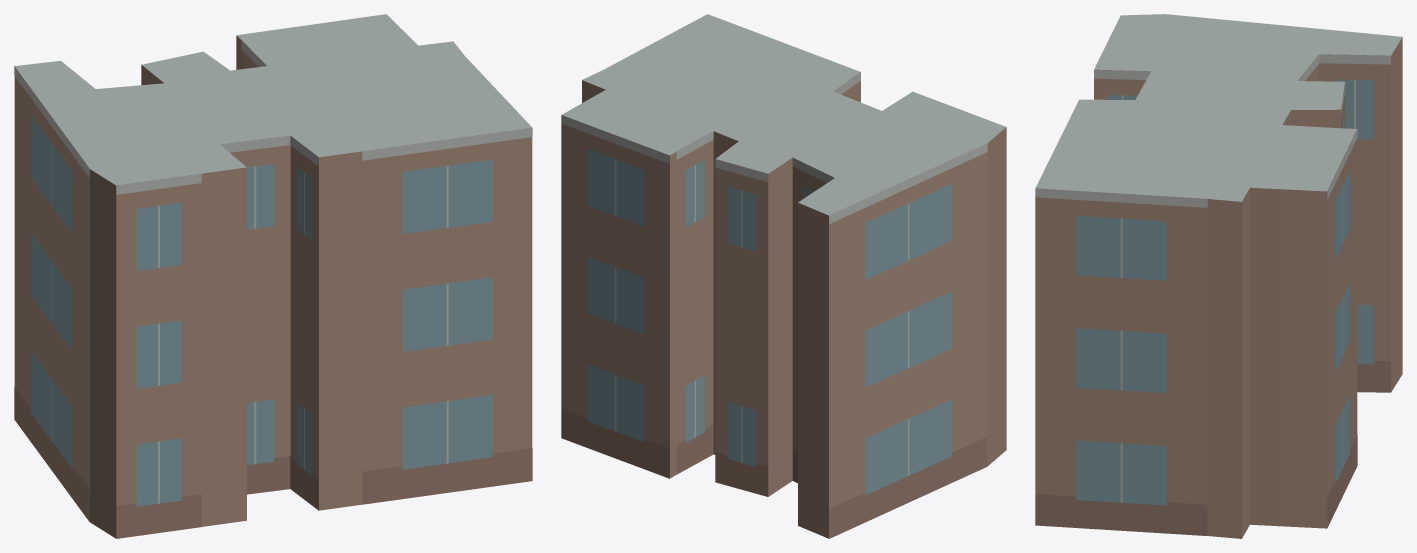
The model's file is survey-upis-32898826.glb.
3 views of the same model, side by side, from view 1: azimuth 30°, elevation 25°; view 2: azimuth 150°, elevation 25°; view 3: azimuth 270°, elevation 25° (orthographic). The views are drawn at different scales.
Visible parts, largest first — view 1: survey-upis-32898826.tmp; view 2: survey-upis-32898826.tmp; view 3: survey-upis-32898826.tmp.
Boxes of the visible parts, x1,y1,x2,y2 form: survey-upis-32898826.tmp: (14,14,532,538); survey-upis-32898826.tmp: (561,14,1006,538); survey-upis-32898826.tmp: (1035,14,1402,538).
Size of the model in its own units: 10.94 by 9.15 by 9.05.
